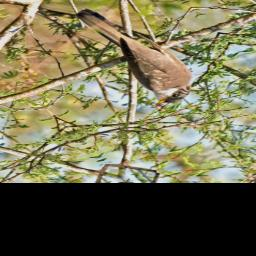Cuckoo: (56, 0, 214, 110)
